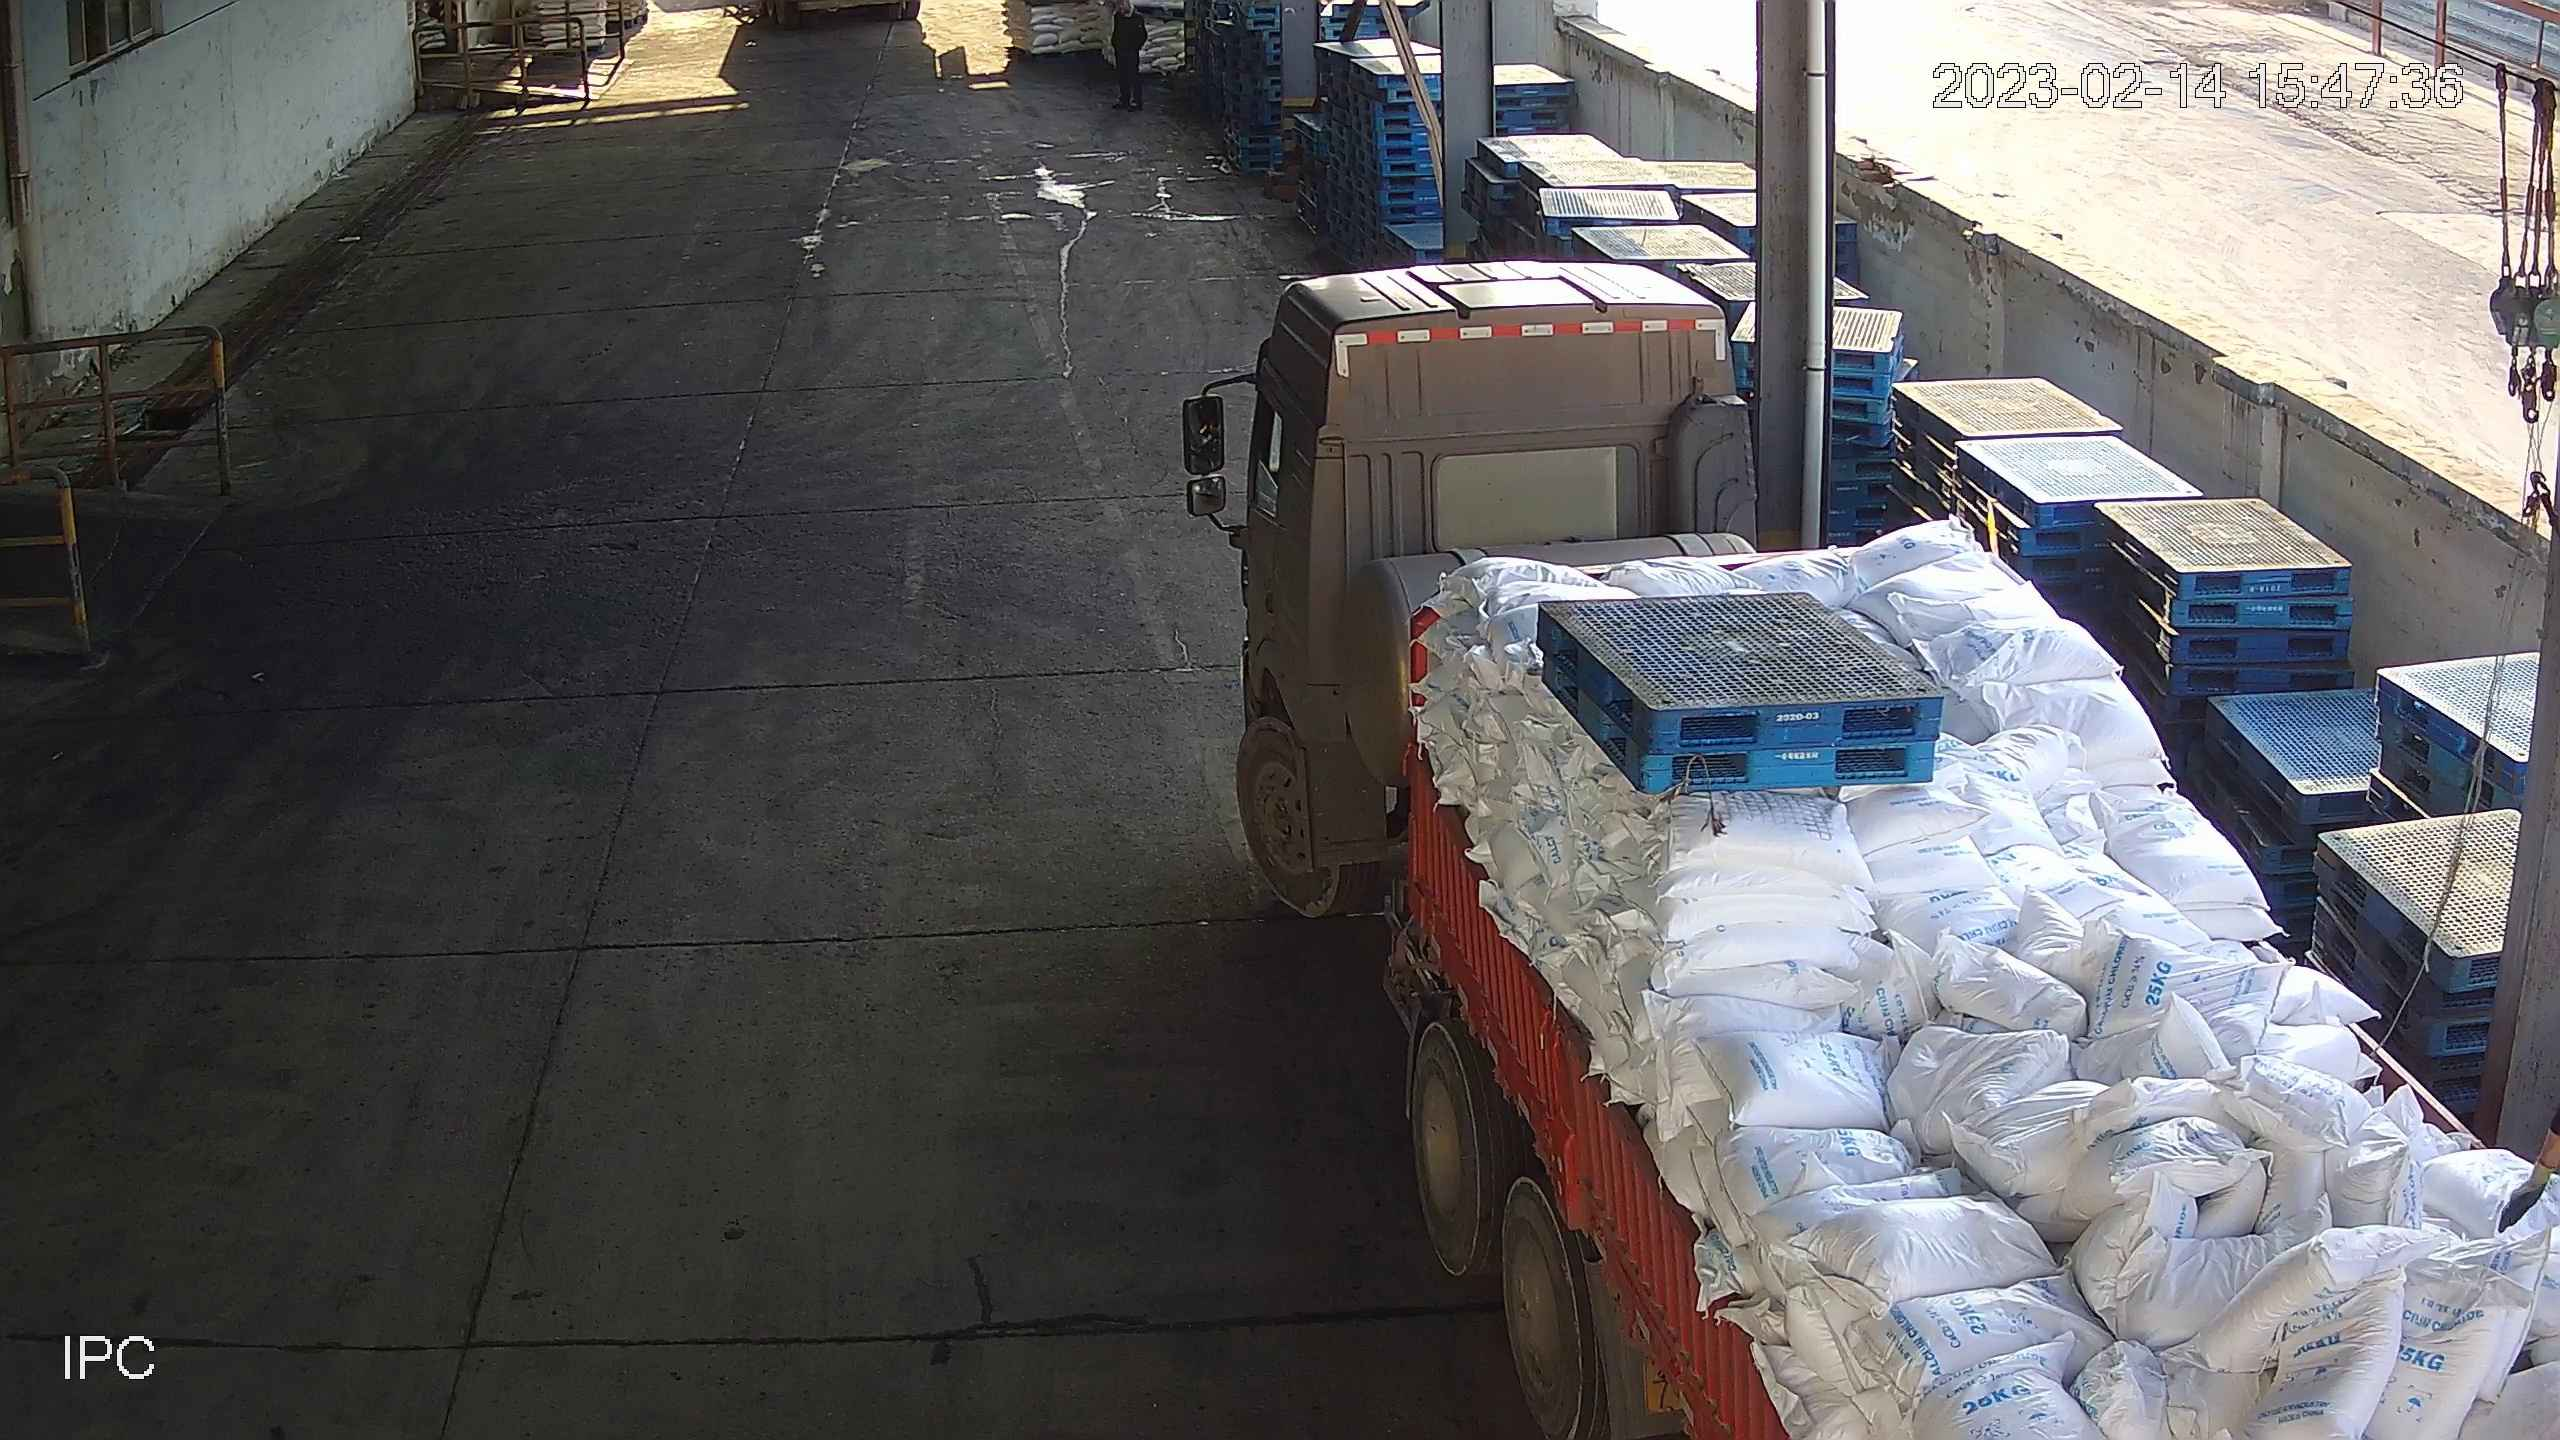truck: (1227, 250, 2560, 1440)
